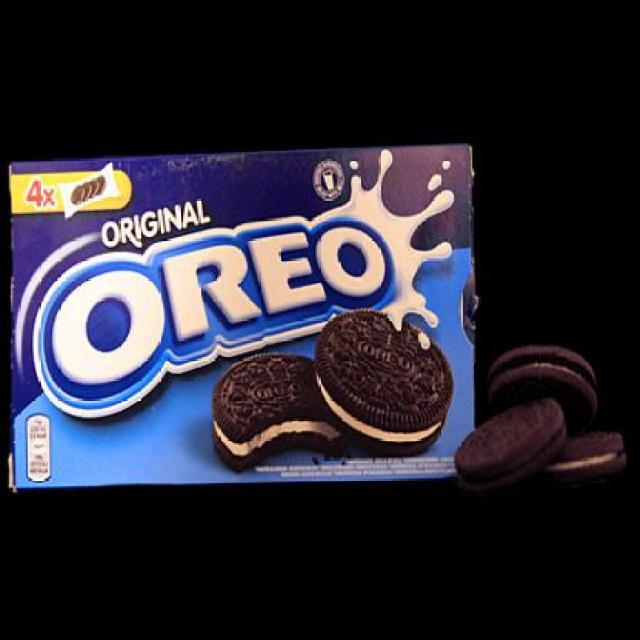Cookie: (7, 134, 635, 497), (312, 310, 454, 444)
